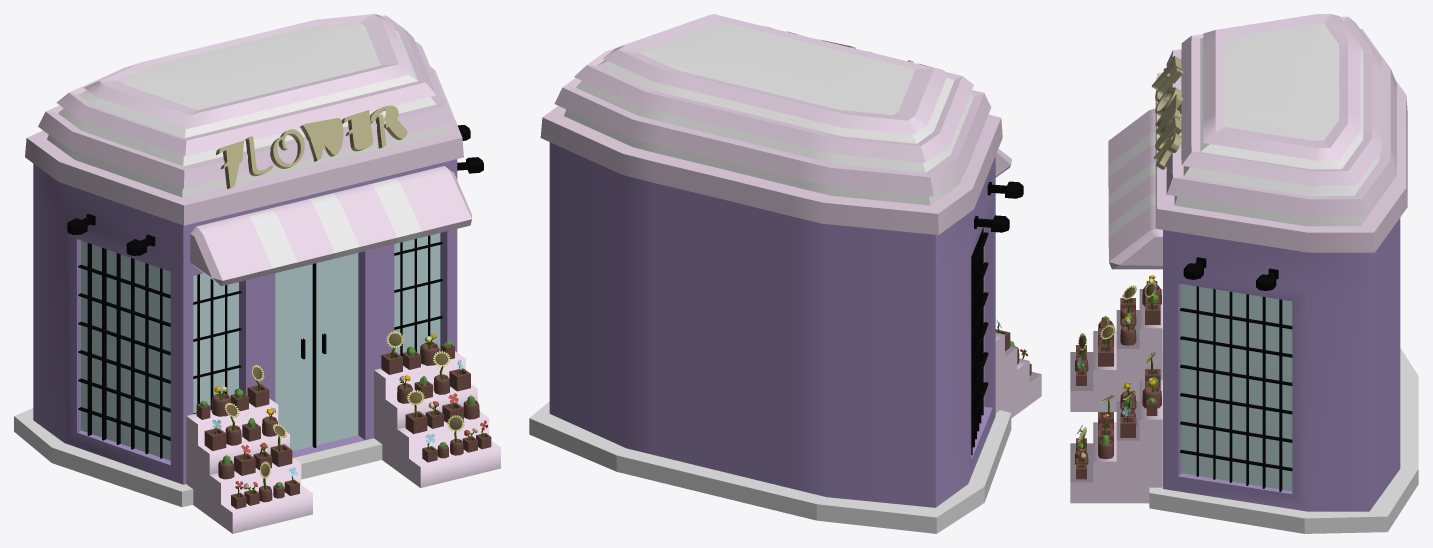
Rendered from Flower_Shop.fbx.
3 views of the same model, side by side, from view 1: azimuth 30°, elevation 25°; view 2: azimuth 150°, elevation 25°; view 3: azimuth 270°, elevation 25° (orthographic). The views are drawn at different scales.
Visible parts, largest first — view 1: Shop, Glass, pCube333, Shelf, Bar_02, Flower_Shop, Bar_01, pCube336, Door, pCube347, pCube352, pCube343 (+3 smaller); view 2: Shop, Bar_02, Shelf, pCube336; view 3: Shop, Glass, Shelf, pCube333, Bar_02, Flower_Shop, pCube336, pCube352, pCube343, pCube347, pCube350, pCube344.
Boxes of the visible parts, bbox=[...] form: Shop: bbox=[14, 14, 463, 507]; Glass: bbox=[81, 233, 440, 460]; pCube333: bbox=[190, 166, 471, 286]; Shelf: bbox=[186, 351, 500, 533]; Bar_02: bbox=[78, 243, 170, 458]; Flower_Shop: bbox=[216, 105, 407, 189]; Bar_01: bbox=[193, 235, 442, 413]; pCube336: bbox=[67, 125, 483, 255]; Door: bbox=[301, 263, 326, 447]; pCube347: bbox=[204, 368, 470, 450]; pCube352: bbox=[247, 351, 402, 407]; pCube343: bbox=[270, 411, 427, 466]; Shop: bbox=[529, 14, 1011, 533]; Bar_02: bbox=[971, 227, 988, 455]; Shelf: bbox=[995, 332, 1041, 418]; pCube336: bbox=[974, 181, 1023, 232]; Shop: bbox=[1149, 14, 1418, 533]; Glass: bbox=[1181, 284, 1292, 491]; Shelf: bbox=[1070, 289, 1162, 503]; pCube333: bbox=[1108, 108, 1162, 269]; Bar_02: bbox=[1180, 286, 1292, 491]; Flower_Shop: bbox=[1151, 56, 1183, 169]; pCube336: bbox=[1183, 257, 1278, 290]; pCube352: bbox=[1145, 304, 1160, 389]; pCube343: bbox=[1098, 346, 1113, 429]; pCube347: bbox=[1120, 298, 1135, 437]; pCube350: bbox=[1142, 285, 1161, 408]; pCube344: bbox=[1120, 325, 1136, 409].
Bounding box in the file's own units: 281 × 240 × 212.
